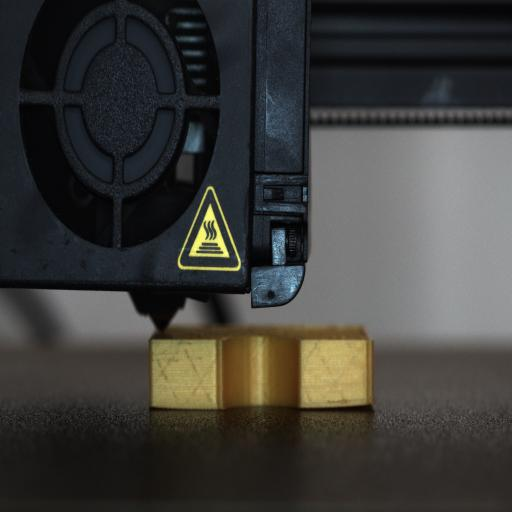warp: (339, 387, 382, 414)
